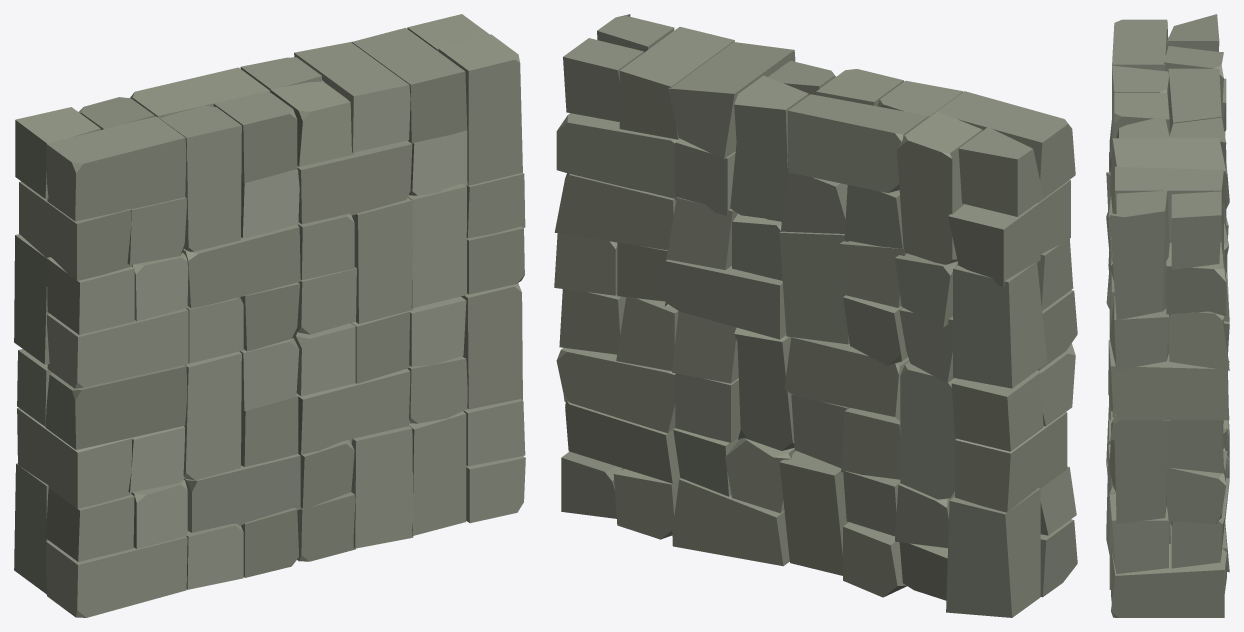
File: cuddlemuddle.fbx
The picture shows the model from 3 angles, left to right: view 1: azimuth 30°, elevation 25°; view 2: azimuth 150°, elevation 25°; view 3: azimuth 270°, elevation 25°; orthographic projection. The views are drawn at different scales.
Visible parts, largest first — view 1: cuddlemuddle; view 2: cuddlemuddle; view 3: cuddlemuddle.
Boxes of the visible parts, box(x1,y1,x2,y2) form: cuddlemuddle: box(14, 14, 525, 617); cuddlemuddle: box(554, 14, 1077, 617); cuddlemuddle: box(1106, 14, 1229, 617).
Size of the model in its own units: 20.59 by 5.44 by 20.
